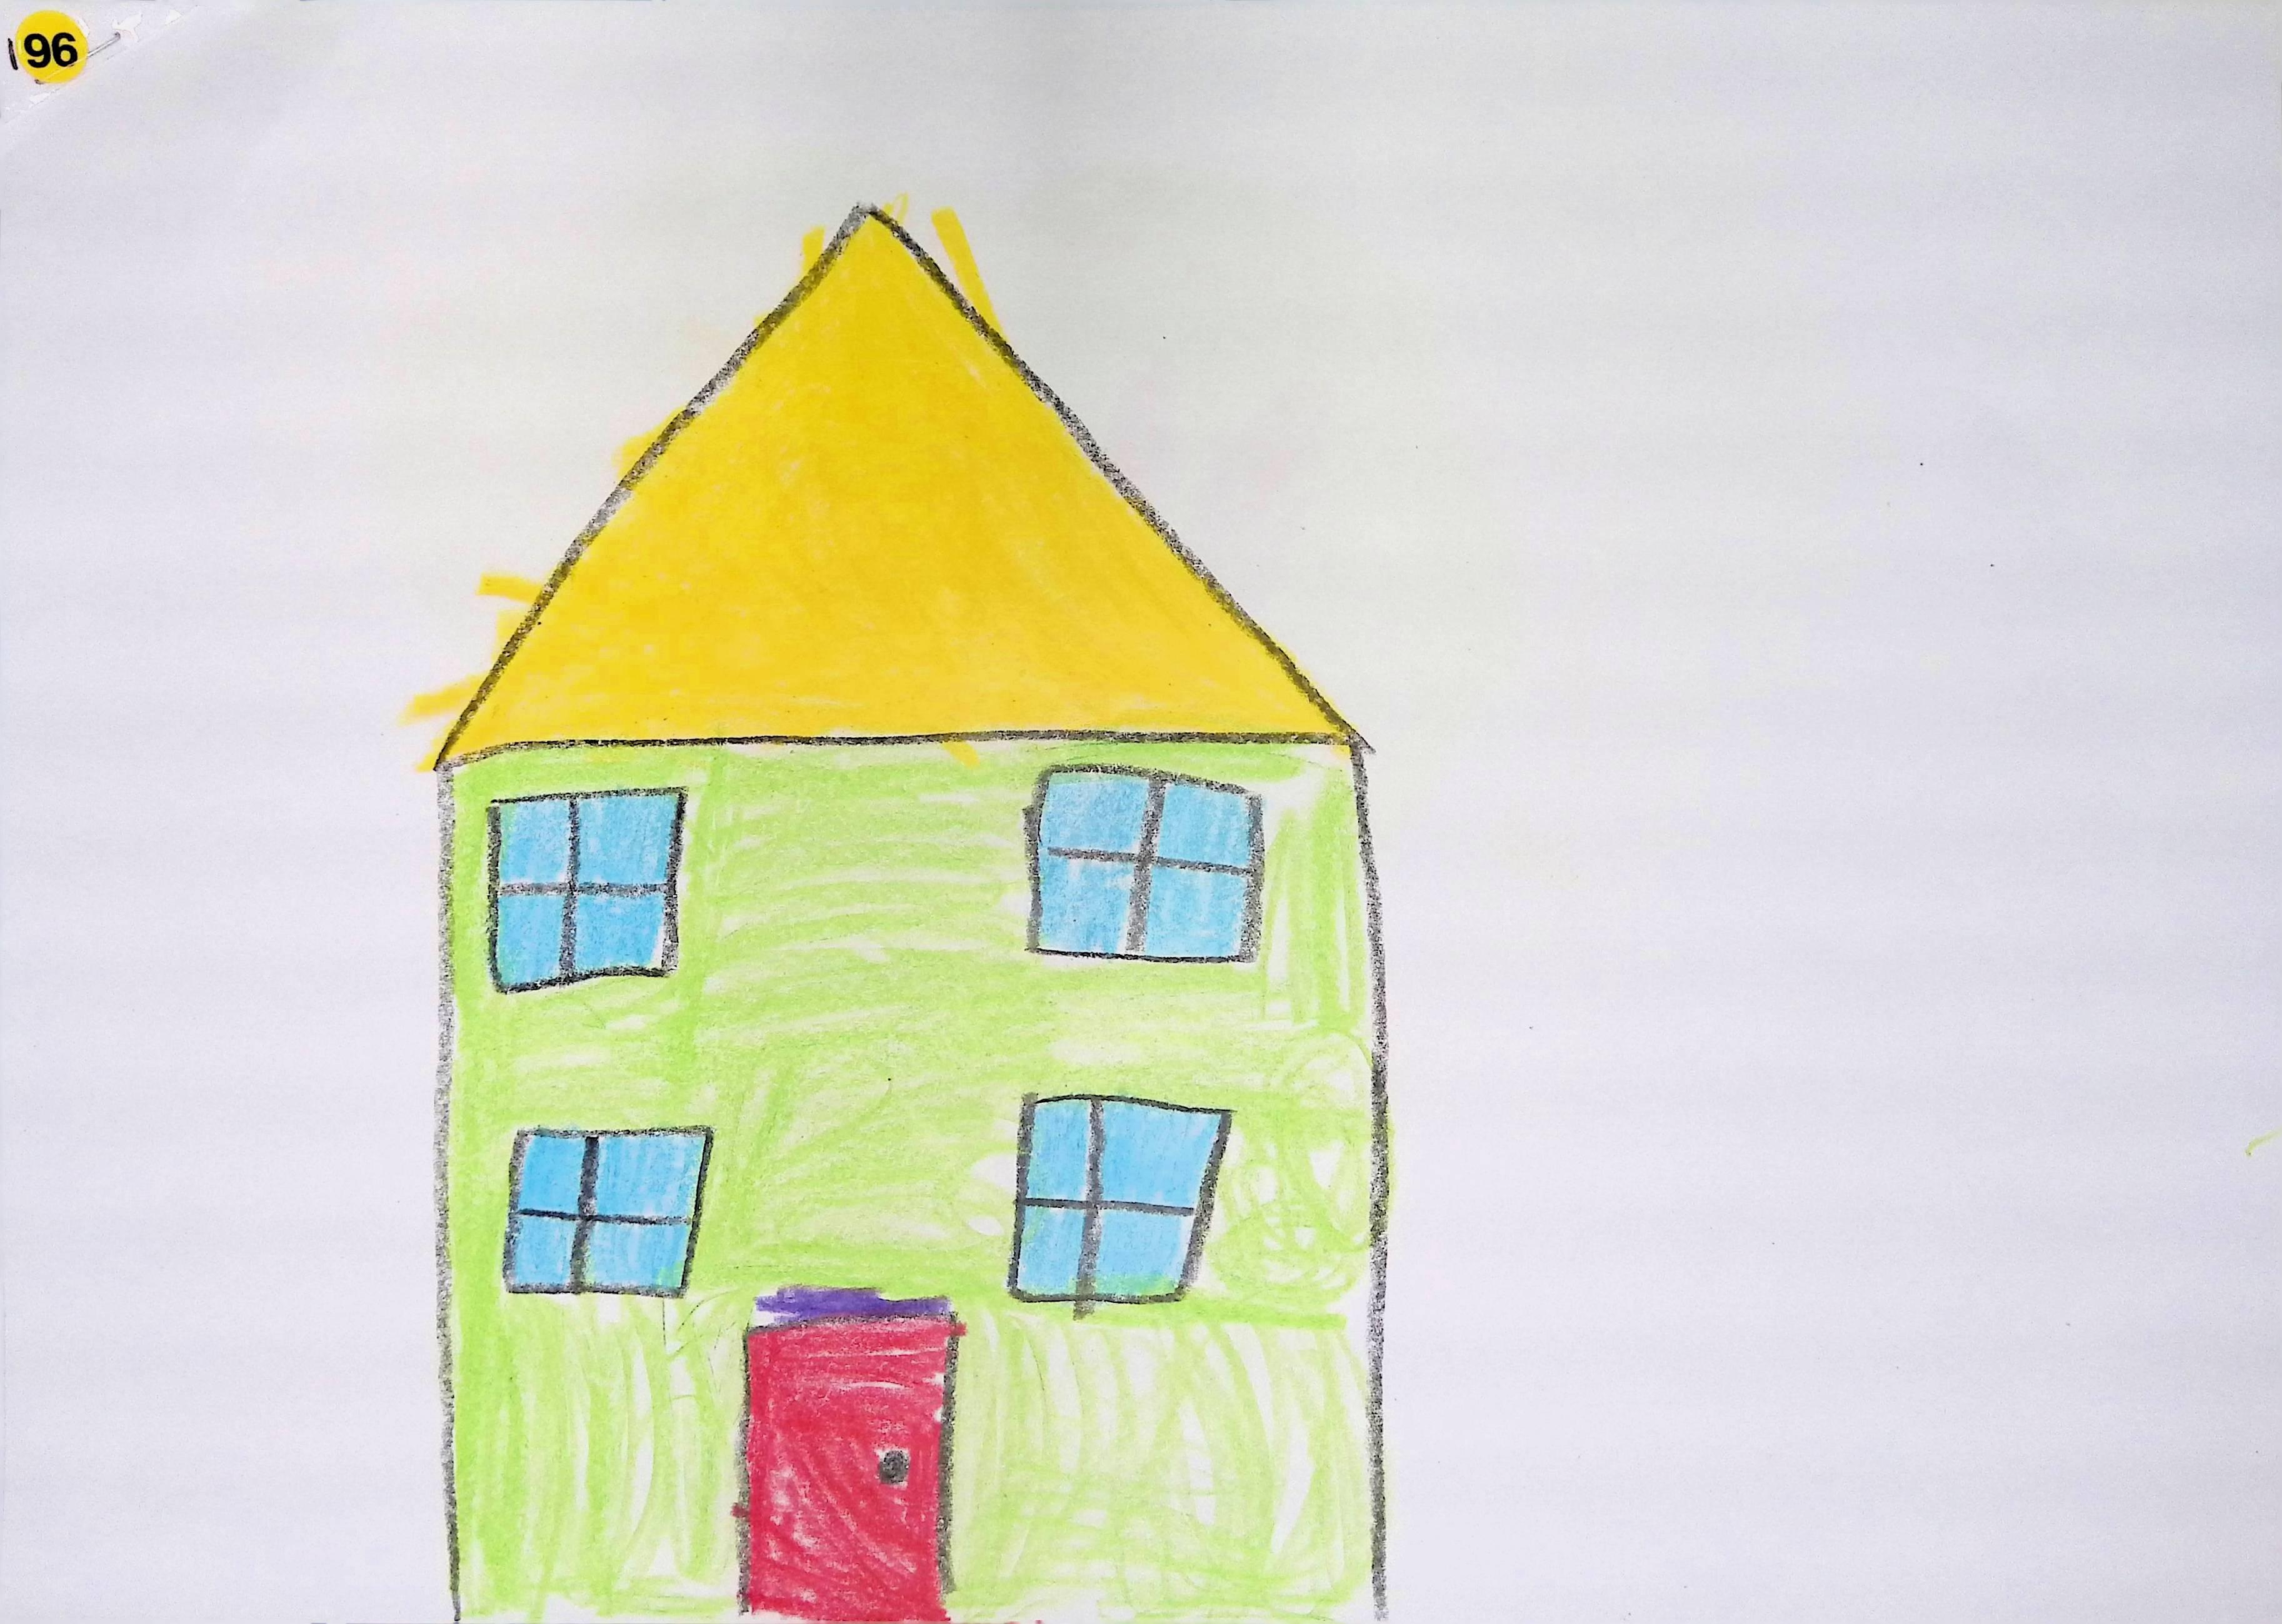house: (440, 204, 1389, 1620)
roof: (438, 204, 1357, 765)
wall: (443, 736, 1387, 1620)
window: (733, 1288, 965, 1624), (1007, 1097, 1231, 1306), (1030, 766, 1264, 960), (489, 787, 682, 990), (501, 1128, 710, 1297)
